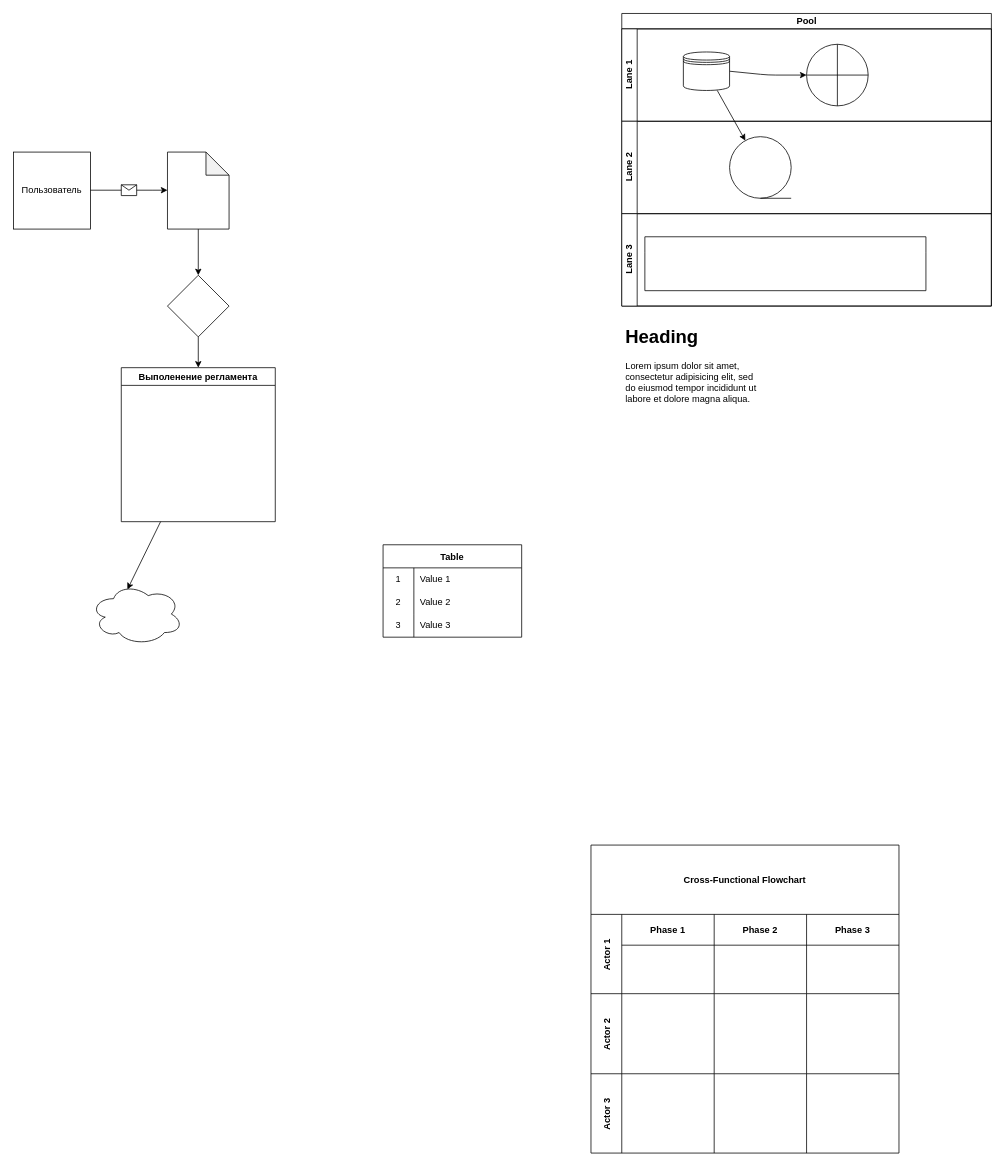
The diagram is 1005 pixels wide and 1167 high, and some of its shapes have lost their labels. Each missing label, with the centre of its shape:
fgsdf;mk sfgmsdkfgm sfd sdfkgm sdfkmg sdfkgm skdfm: [785,263]
Запись: [136,614]
Заявление: [198,190]
Проверка: [198,306]
